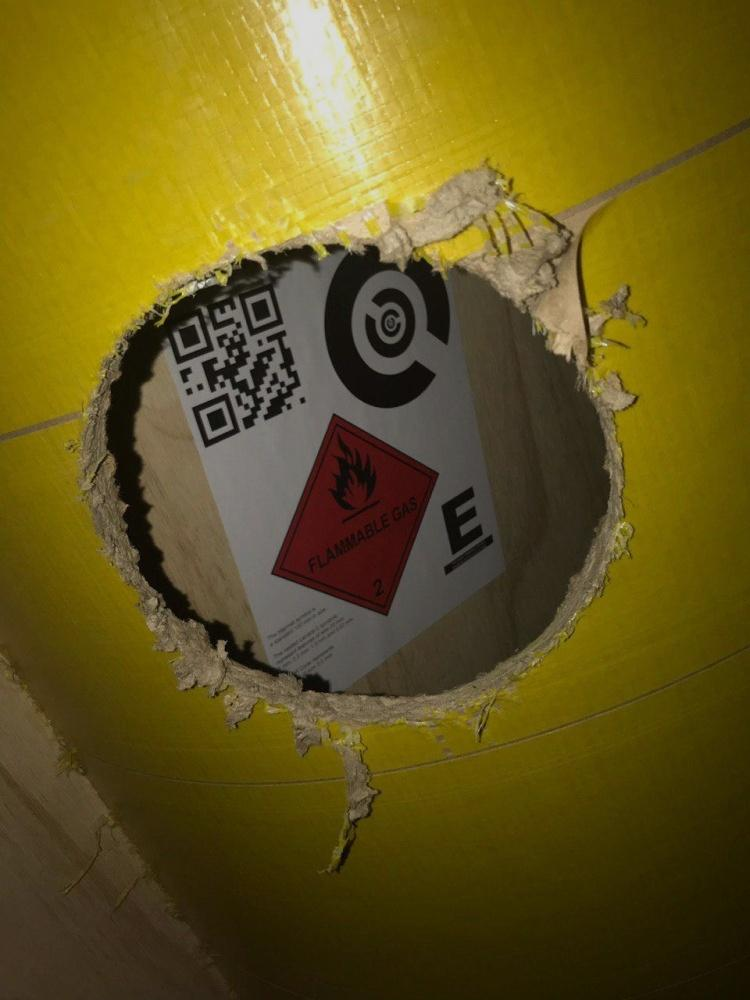flammable: (267, 410, 445, 621)
